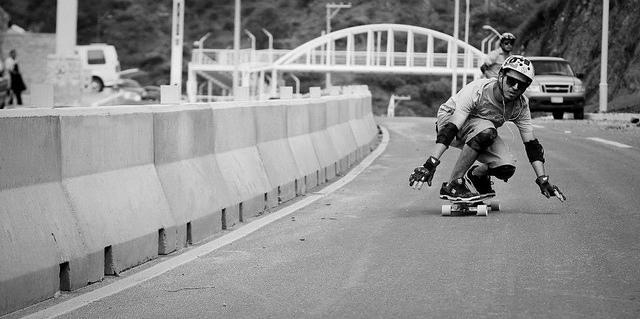car: (75, 44, 124, 92)
truck: (524, 58, 588, 125), (78, 44, 124, 91)
